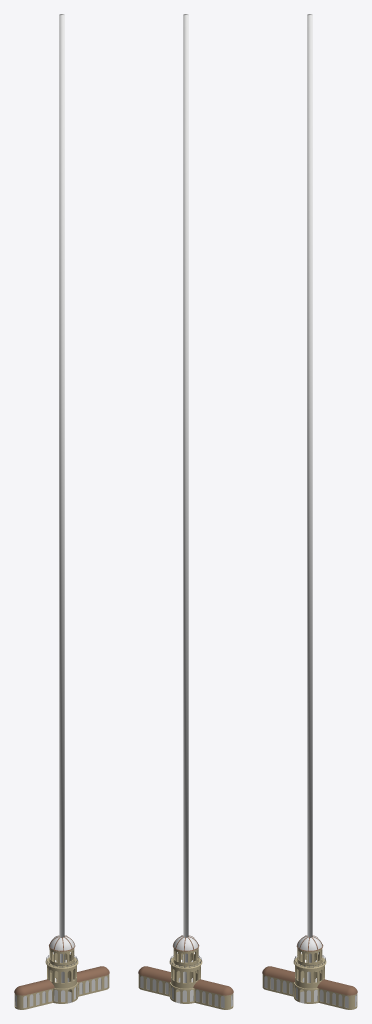
Rendered from Greenhouse_new_colors.fbx.
3 renders of one model, left to right at view 1: azimuth 30°, elevation 25°; view 2: azimuth 150°, elevation 25°; view 3: azimuth 330°, elevation 25°, orthographic.
Visible parts, largest first — view 1: Cylinder, Plane.002, Plane.004, Plane.006, Plane.001, Plane.007, Plane.005, Plane.008; view 2: Cylinder, Plane.002, Plane.004, Plane.006, Plane.001, Plane.007, Plane.005, Plane.008; view 3: Cylinder, Plane.002, Plane.004, Plane.006, Plane.001, Plane.007, Plane.005, Plane.008.
Boxes of the visible parts, x1=… form: Cylinder: x1=59, y1=14, x2=64, y2=982; Plane.002: x1=14, y1=935, x2=109, y2=995; Plane.004: x1=14, y1=974, x2=109, y2=1009; Plane.006: x1=45, y1=957, x2=78, y2=988; Plane.001: x1=15, y1=976, x2=107, y2=1007; Plane.007: x1=49, y1=948, x2=74, y2=966; Plane.005: x1=50, y1=977, x2=78, y2=1003; Plane.008: x1=49, y1=935, x2=74, y2=950; Cylinder: x1=183, y1=14, x2=188, y2=982; Plane.002: x1=138, y1=935, x2=233, y2=995; Plane.004: x1=138, y1=974, x2=233, y2=1009; Plane.006: x1=169, y1=956, x2=202, y2=988; Plane.001: x1=140, y1=976, x2=232, y2=1007; Plane.007: x1=173, y1=948, x2=198, y2=966; Plane.005: x1=169, y1=977, x2=197, y2=1003; Plane.008: x1=173, y1=935, x2=198, y2=950; Cylinder: x1=307, y1=14, x2=312, y2=982; Plane.002: x1=262, y1=935, x2=357, y2=995; Plane.004: x1=262, y1=974, x2=357, y2=1009; Plane.006: x1=293, y1=956, x2=326, y2=988; Plane.001: x1=264, y1=976, x2=356, y2=1007; Plane.007: x1=297, y1=948, x2=322, y2=966; Plane.005: x1=293, y1=977, x2=321, y2=1003; Plane.008: x1=297, y1=935, x2=322, y2=950.
Size of the model in its own units: 3830 by 38506 by 1168.
